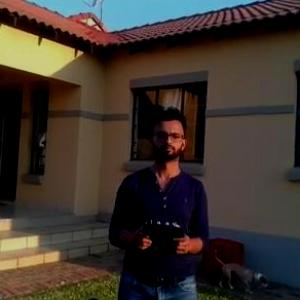follow: (104, 105, 216, 299)
null: (207, 244, 271, 297)
